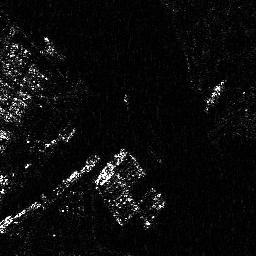ship: (143, 201, 166, 229)
